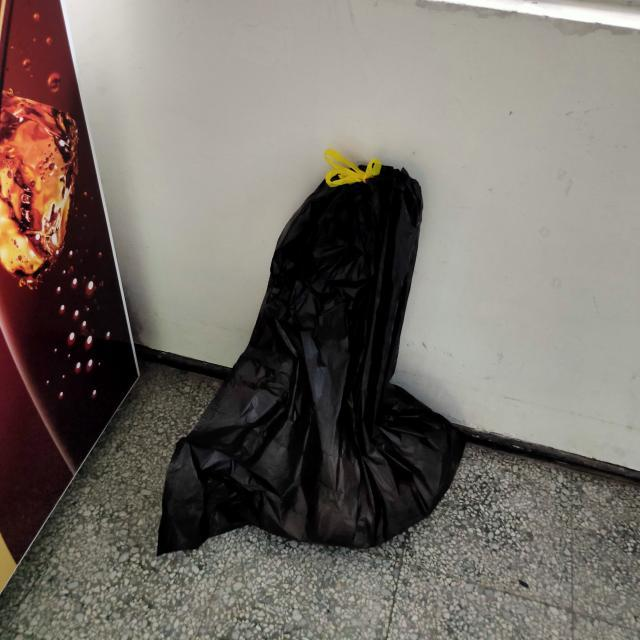Vinyl: (125, 125, 482, 584)
